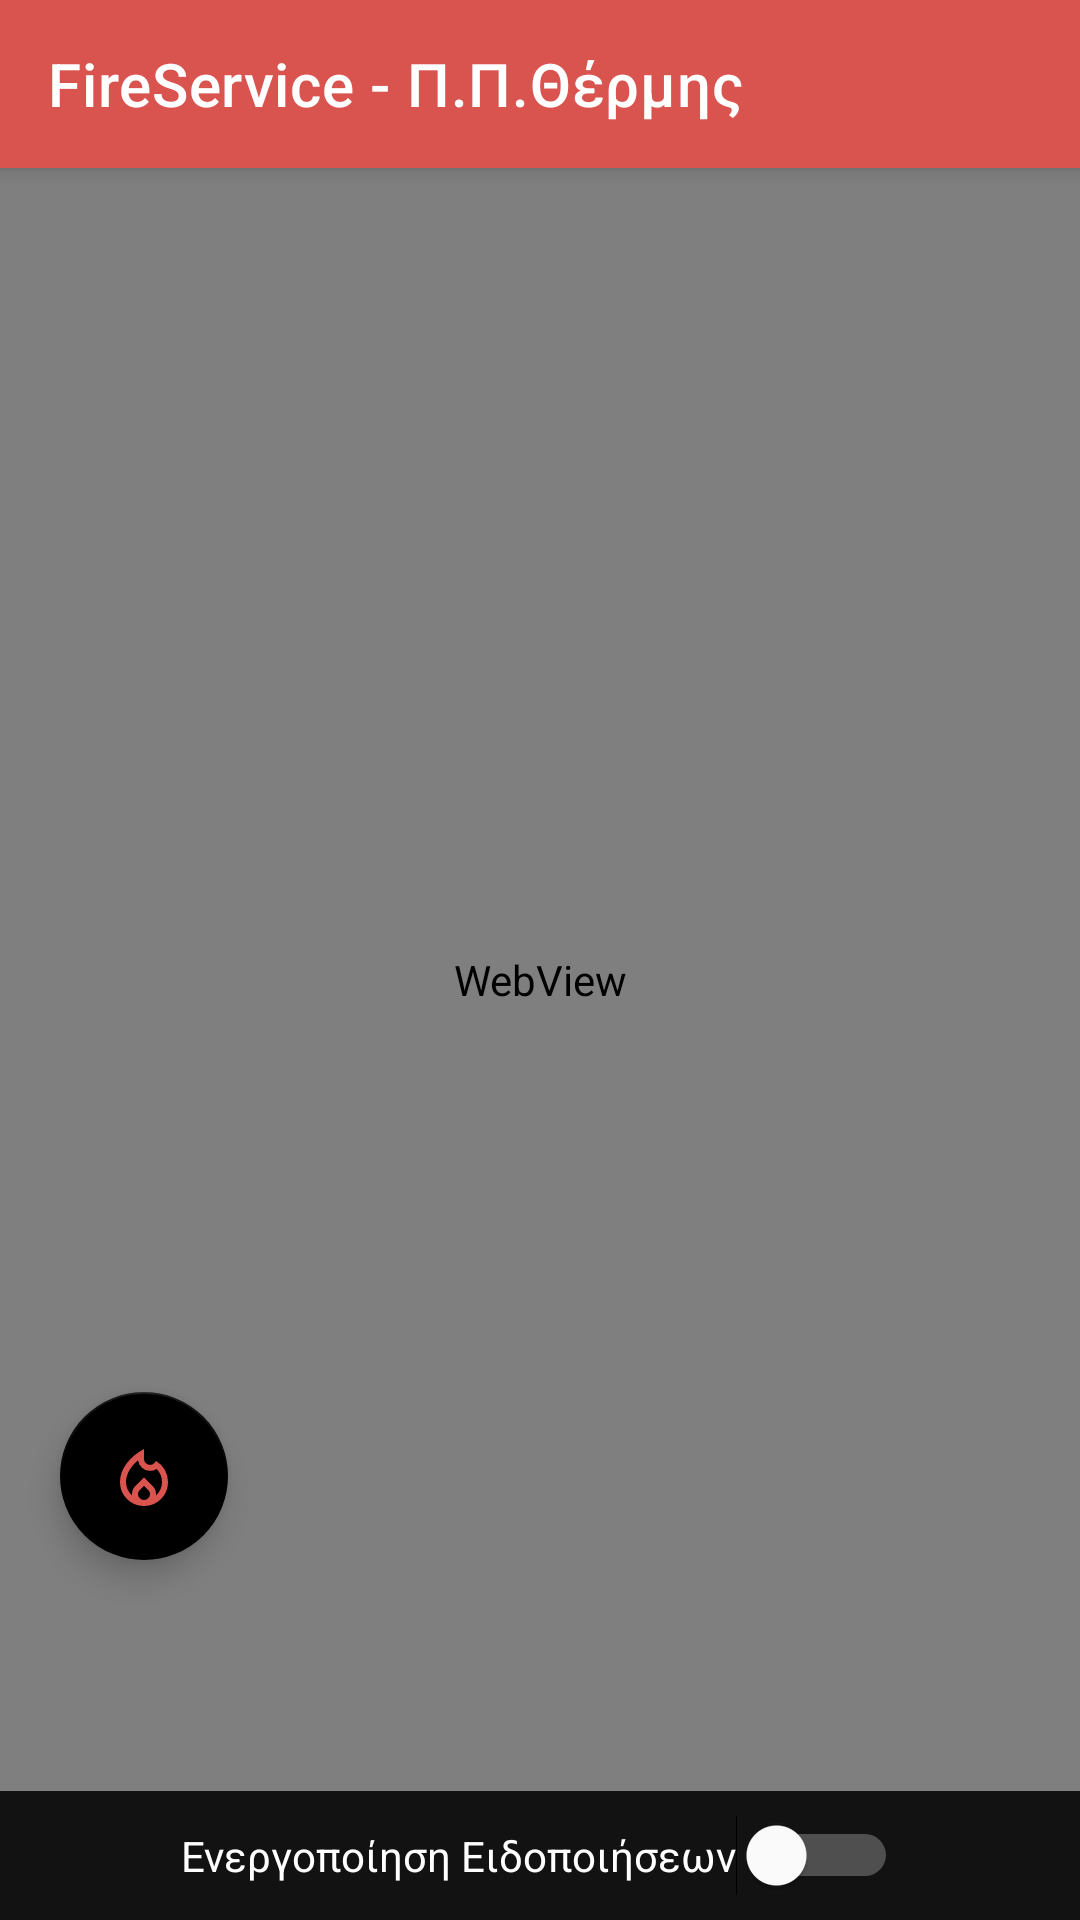

Where to tap for icons on this 1080×1920 app screen, as point (x, y):
Ενεργά Συμβάντα: point (144, 1476)
